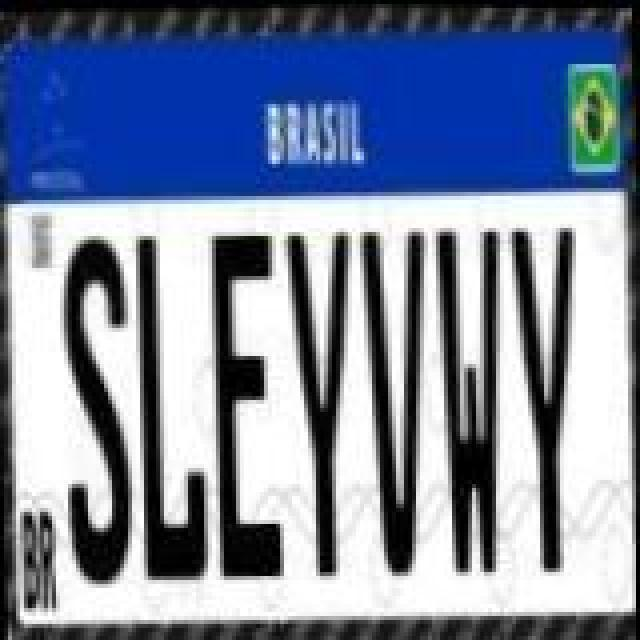E: (208, 228, 288, 580)
L: (128, 232, 208, 584)
S: (54, 232, 138, 588)
V: (356, 226, 436, 578)
W: (432, 224, 512, 576)
Y: (280, 228, 360, 580), (504, 222, 584, 574)
